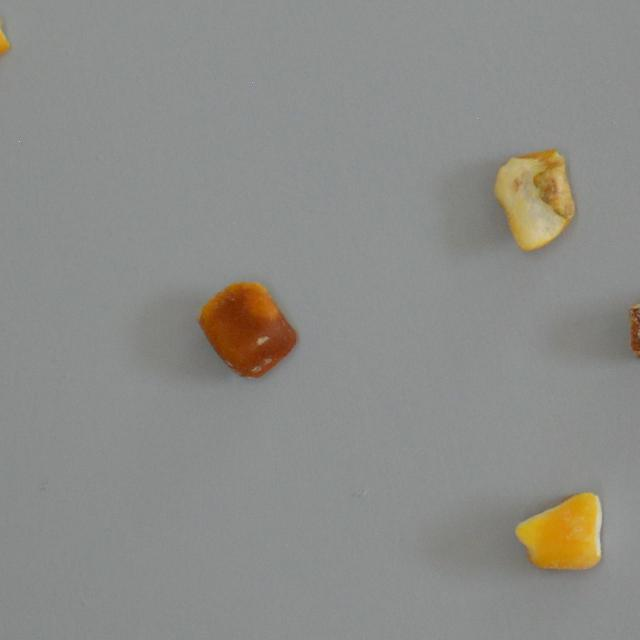dañado: (194, 276, 298, 386), (490, 137, 578, 258), (512, 486, 607, 576), (0, 0, 16, 103), (622, 280, 640, 364)
